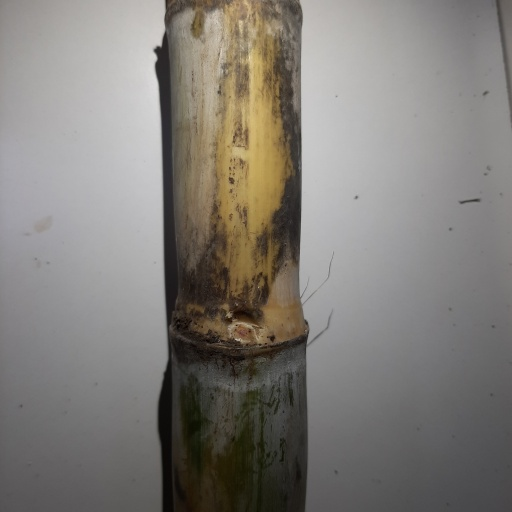Damage_Bud: (225, 311, 258, 347)
